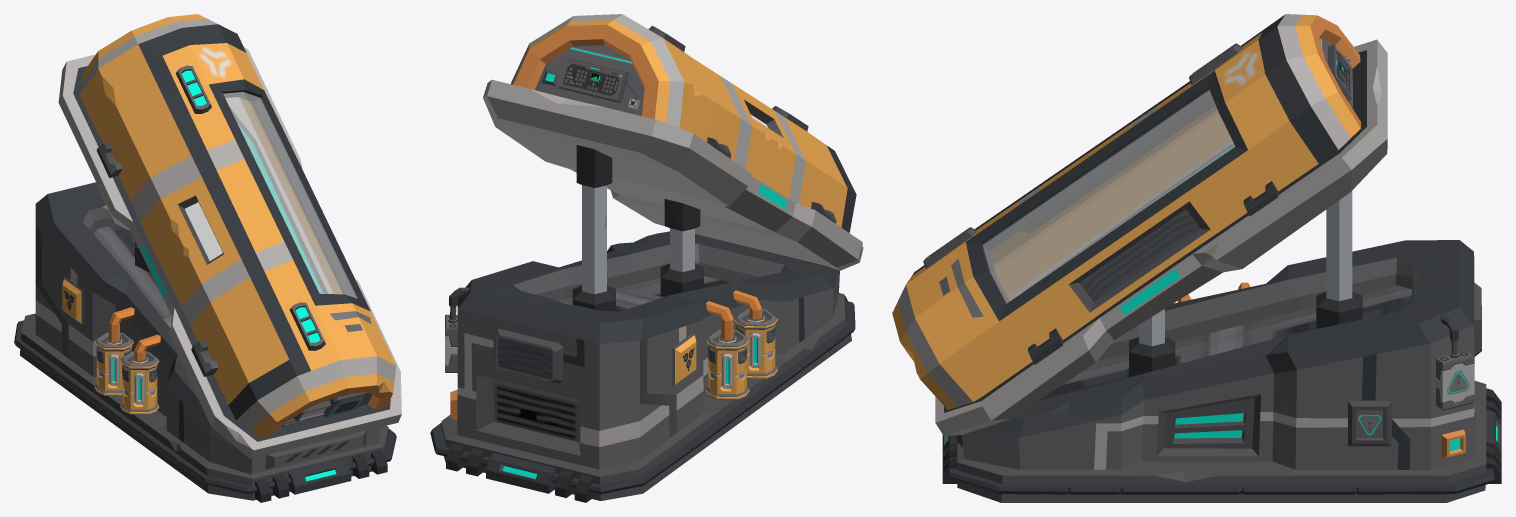
File: SM_Prop_Hibernation_Pod_01.fbx
3 views of the same model, side by side, from view 1: azimuth 30°, elevation 25°; view 2: azimuth 150°, elevation 25°; view 3: azimuth 270°, elevation 25° (orthographic). The views are drawn at different scales.
Parts seen in each view (by area): view 1: SM_Prop_Hibernation_Pod_Lid_01, SM_Prop_Hibernation_Pod_01, SM_Prop_Hibernation_Pod_Top_01, SM_Prop_Hibernation_Pod_Glass_01; view 2: SM_Prop_Hibernation_Pod_01, SM_Prop_Hibernation_Pod_Lid_01, SM_Prop_Hibernation_Pod_Top_01; view 3: SM_Prop_Hibernation_Pod_01, SM_Prop_Hibernation_Pod_Lid_01, SM_Prop_Hibernation_Pod_Top_01, SM_Prop_Hibernation_Pod_Glass_01.
Boxes of the visible parts, <box> form: SM_Prop_Hibernation_Pod_Lid_01: <box>79,14,396,438</box>; SM_Prop_Hibernation_Pod_01: <box>14,182,396,502</box>; SM_Prop_Hibernation_Pod_Top_01: <box>58,47,401,458</box>; SM_Prop_Hibernation_Pod_Glass_01: <box>223,92,357,298</box>; SM_Prop_Hibernation_Pod_01: <box>430,145,855,502</box>; SM_Prop_Hibernation_Pod_Lid_01: <box>510,14,856,232</box>; SM_Prop_Hibernation_Pod_Top_01: <box>483,79,863,270</box>; SM_Prop_Hibernation_Pod_01: <box>942,191,1501,502</box>; SM_Prop_Hibernation_Pod_Lid_01: <box>892,14,1360,409</box>; SM_Prop_Hibernation_Pod_Top_01: <box>935,39,1387,435</box>; SM_Prop_Hibernation_Pod_Glass_01: <box>983,90,1234,303</box>.
Size of the model in its own units: 162 by 281 by 367.
